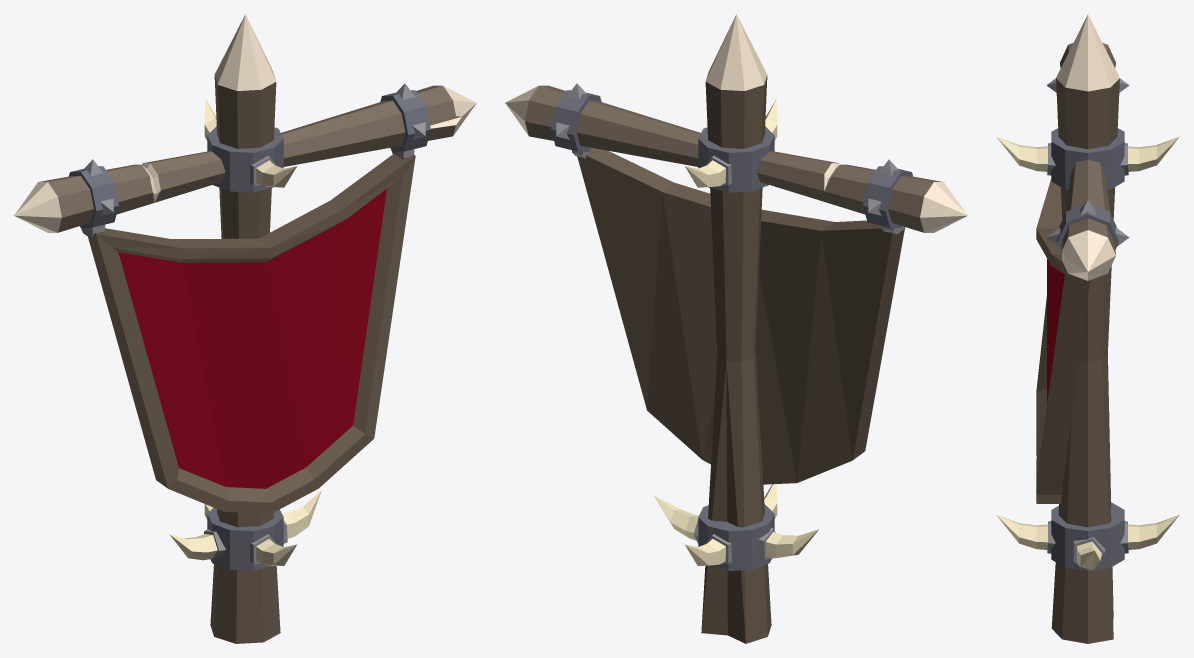
Rendered from _flag.fbx.
3 renders of one model, left to right at view 1: azimuth 30°, elevation 25°; view 2: azimuth 150°, elevation 25°; view 3: azimuth 270°, elevation 25°, orthographic.
Visible parts, largest first — view 1: flag; view 2: flag; view 3: flag.
Part boxes in pixels (x1,y1,x2,y2): flag: (14, 14, 476, 643); flag: (505, 14, 967, 643); flag: (996, 14, 1179, 643).
Size of the model in its own units: 252 by 321 by 86.95.
